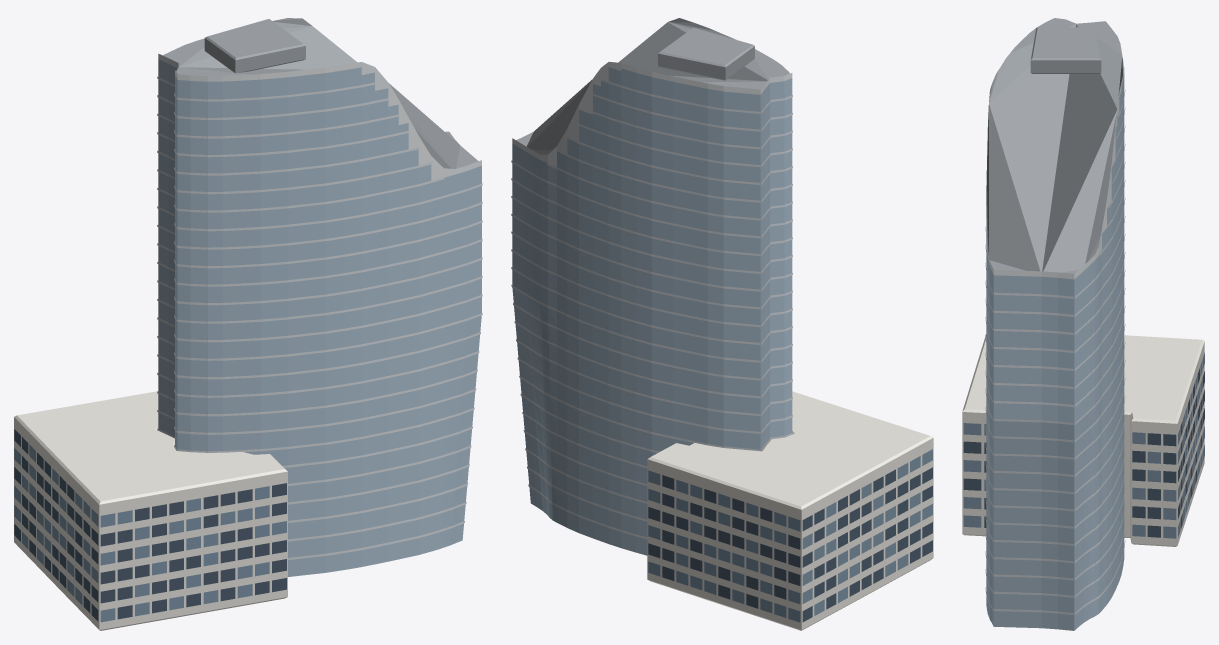
The model's file is w-barcelona.glb.
The picture shows the model from 3 angles, left to right: view 1: azimuth 30°, elevation 25°; view 2: azimuth 150°, elevation 25°; view 3: azimuth 270°, elevation 25°; orthographic projection. The views are drawn at different scales.
Parts seen in each view (by area): view 1: w-barcelona; view 2: w-barcelona; view 3: w-barcelona.
Boxes of the visible parts, x1,y1,x2,y2 form: w-barcelona: (14,18,482,630); w-barcelona: (511,18,933,630); w-barcelona: (962,18,1204,630).
Size of the model in its own units: 81.8 by 102 by 44.66.
